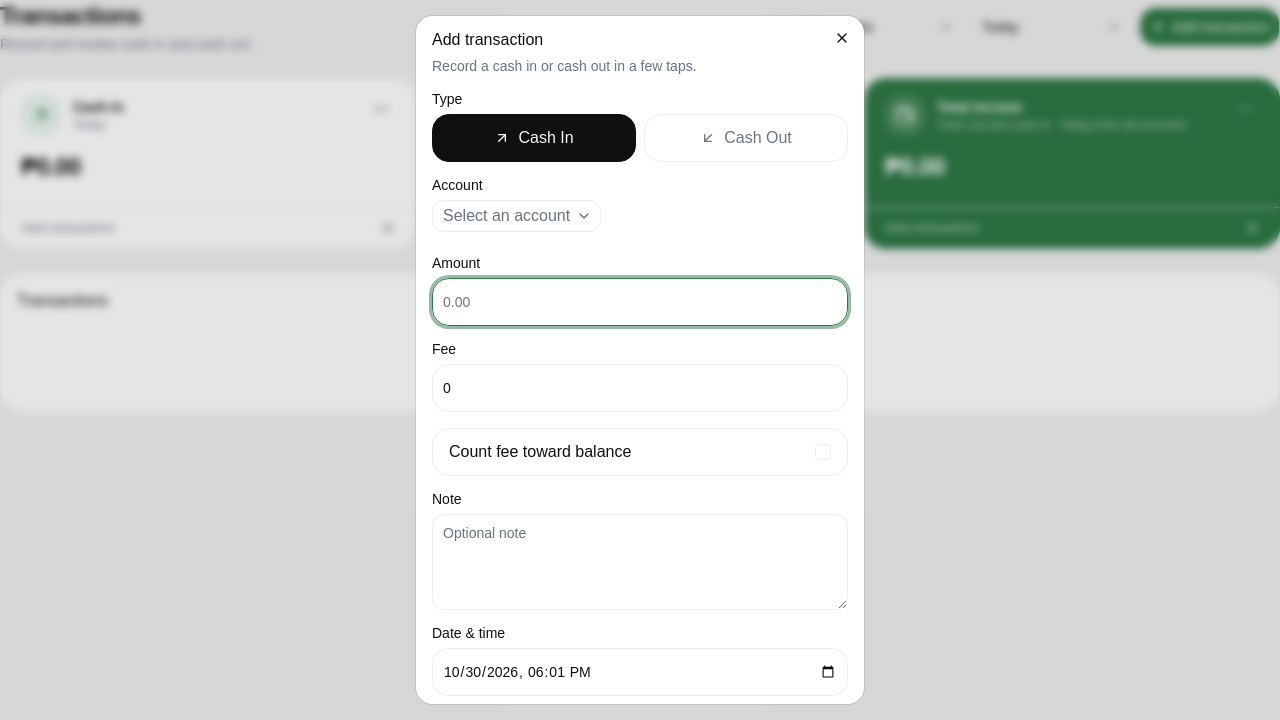
Test: Transactions page account filter › opens the add-transaction dialog from the dashboard deep link
Expected: the dialog shows "Add transaction", [432,31,543,48]
Closing the dialog strips the param so a refresh won't reopen the form.
Click the button named "Close": (842, 38) [828,24,856,52]
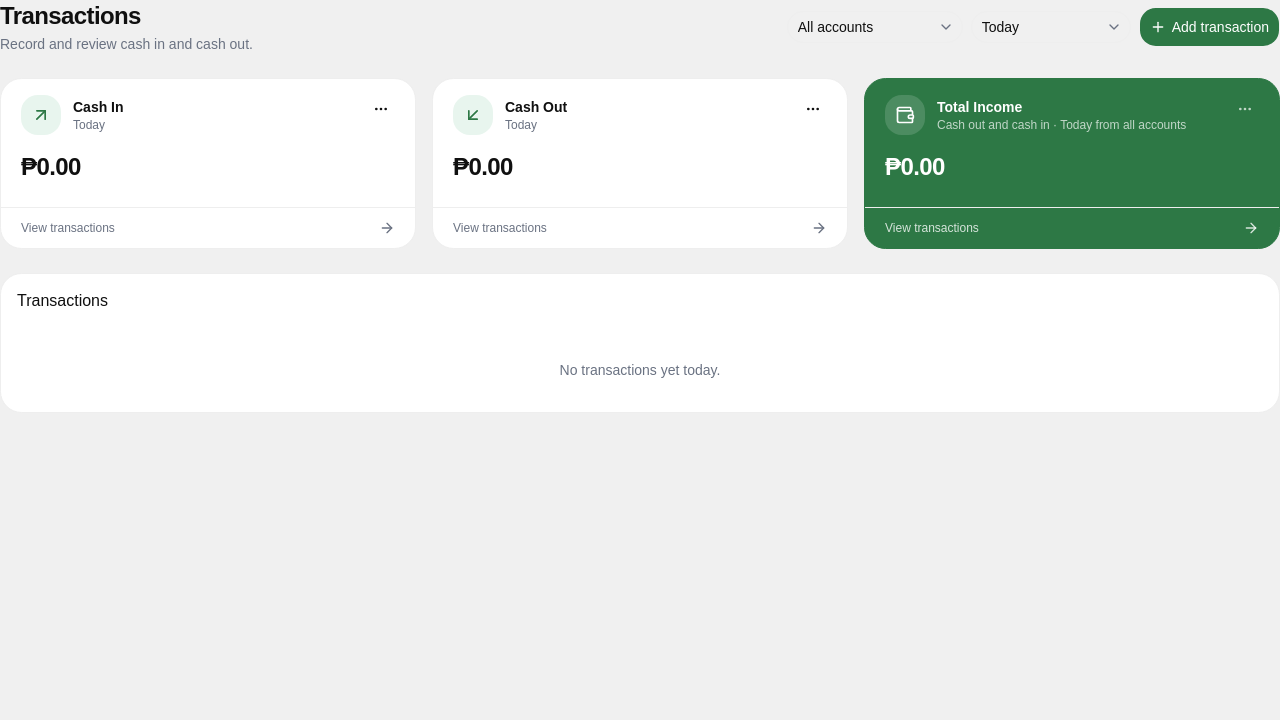
Now the dialog is gone
